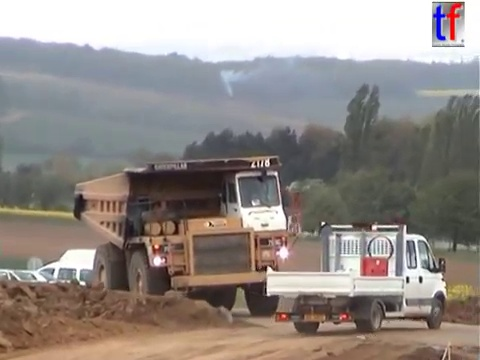truck: (70, 152, 306, 319), (263, 216, 449, 333)
